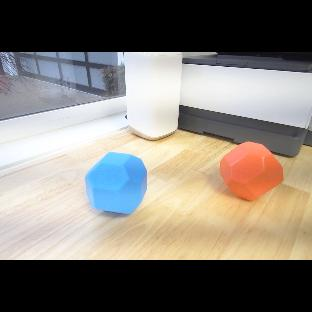V5_BLUE: (86, 149, 149, 215)
V5_RED: (220, 140, 284, 202)
